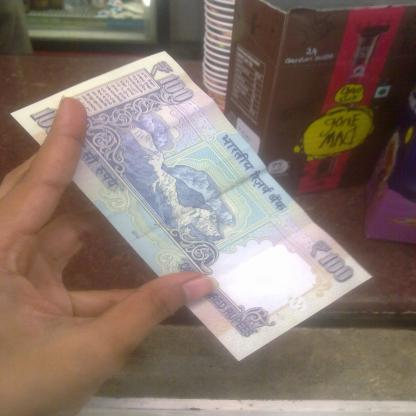Old100Back: (9, 51, 375, 363)
